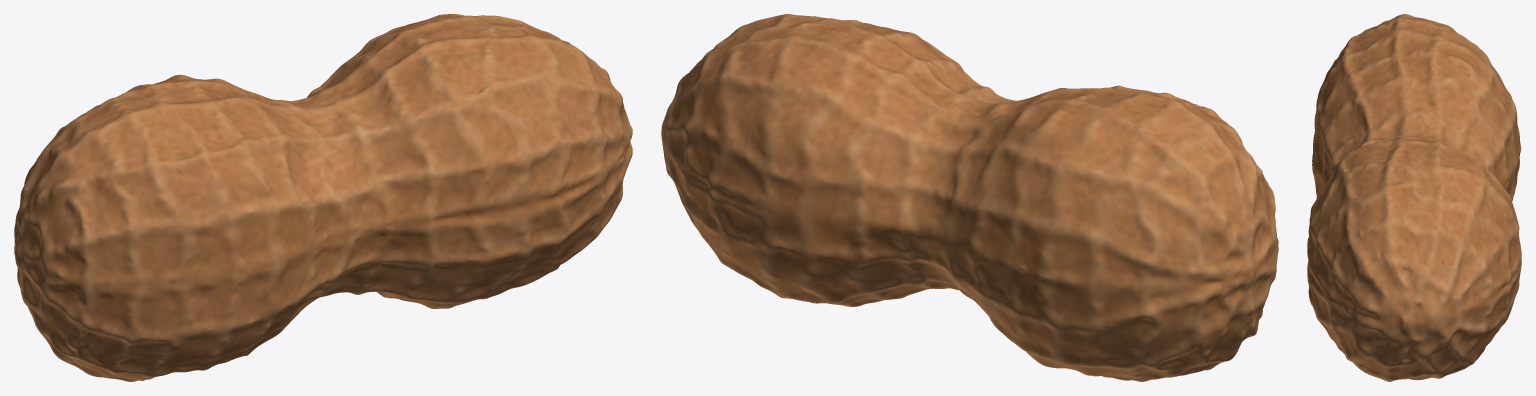
Rendered from peanut-pod.glb.
3 renders of one model, left to right at view 1: azimuth 30°, elevation 25°; view 2: azimuth 150°, elevation 25°; view 3: azimuth 270°, elevation 25°, orthographic. The views are drawn at different scales.
Parts seen in each view (by area): view 1: Object_3, Object_2; view 2: Object_3, Object_2; view 3: Object_3, Object_2.
Boxes of the visible parts, <box> form: Object_3: <box>14,14,632,374</box>; Object_2: <box>14,81,632,381</box>; Object_3: <box>661,14,1277,369</box>; Object_2: <box>661,75,1278,381</box>; Object_3: <box>1307,14,1521,374</box>; Object_2: <box>1307,59,1521,381</box>.
Bounding box in the file's own units: 0.0386 × 0.0168 × 0.0149.
1 material, 1 textured.
